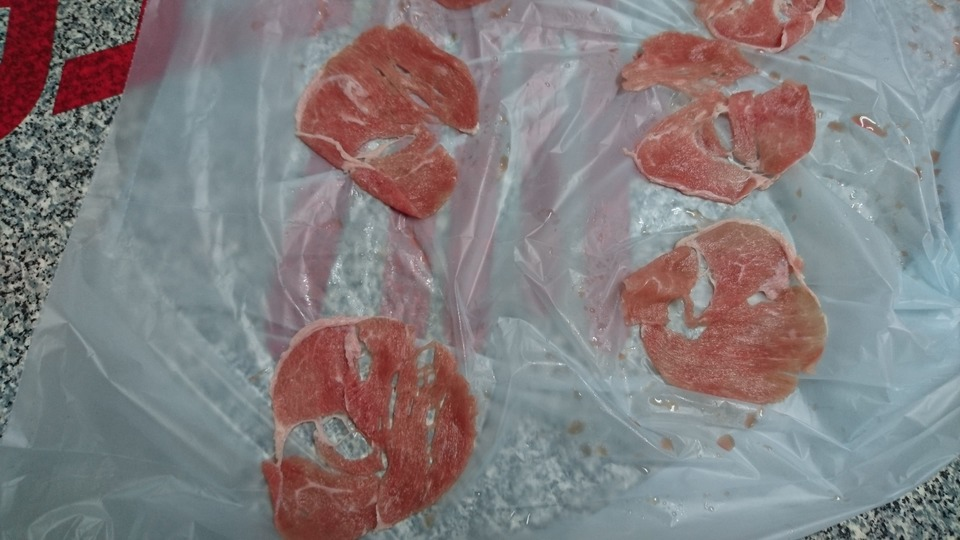restructured meat: (586, 225, 855, 413), (245, 319, 484, 522), (276, 46, 488, 214), (625, 28, 825, 205)
